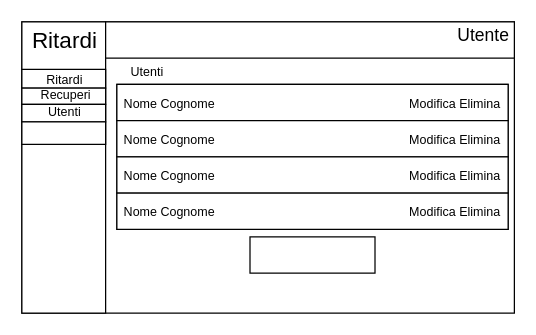
This 536x335 diagram has some shape labels left out. The shapes that lost their labels are listed below. From the top down, each one's centre as x and y in pixels, then its label:
At pixel 63 132: "Impostazioni".
At pixel 312 254: "Aggiungi utente".
